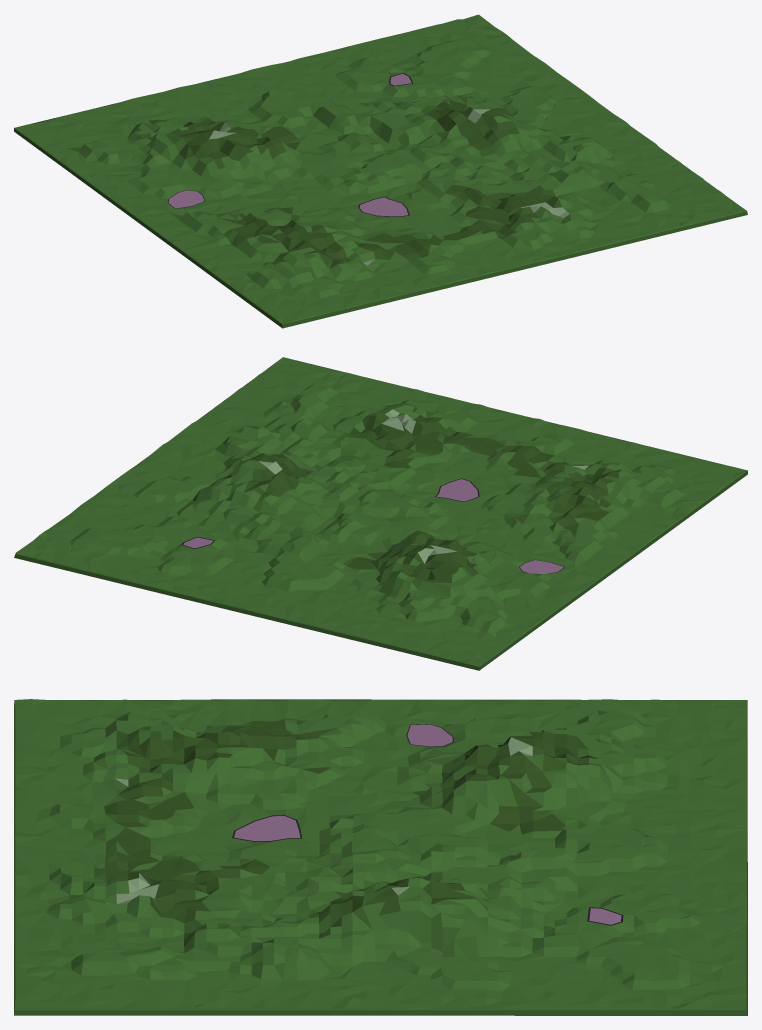
File: ground.gltf
The picture shows the model from 3 angles, top to bottom: view 1: azimuth 30°, elevation 25°; view 2: azimuth 150°, elevation 25°; view 3: azimuth 270°, elevation 25°; orthographic projection. The views are drawn at different scales.
Visible parts, largest first — view 1: ground; view 2: ground; view 3: ground.
Boxes of the visible parts, x1,y1,x2,y2 form: ground: (14,14,747,328); ground: (14,357,747,670); ground: (14,699,747,1015).
Size of the model in its own units: 85.43 by 5.57 by 85.43.
